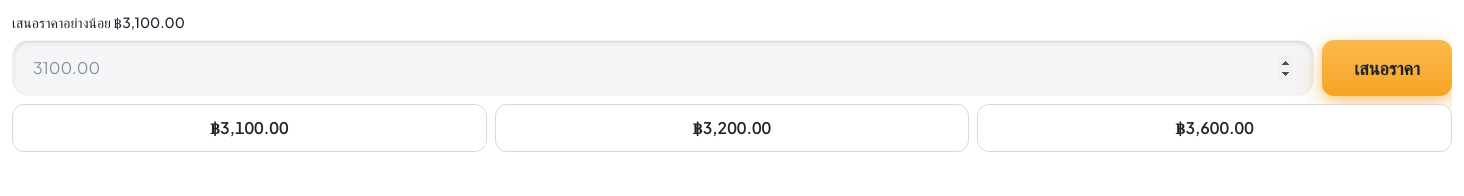
Test: PlaceBidControl › placing a bid › refuses an amount below the minimum in its own words, without troubling the API
Type "3000" into the number field labelled "เสนอราคาอย่างน้อย ฿3,100.00" at x=663, y=68, box [33,56,1293,80]
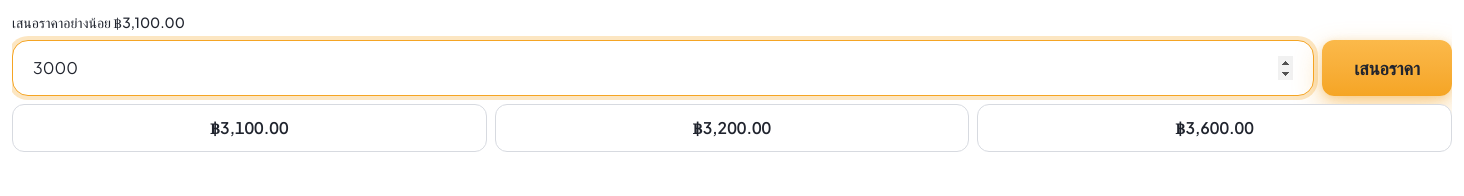
Click the button "เสนอราคา" at x=1387, y=68, box [1322,40,1452,96]
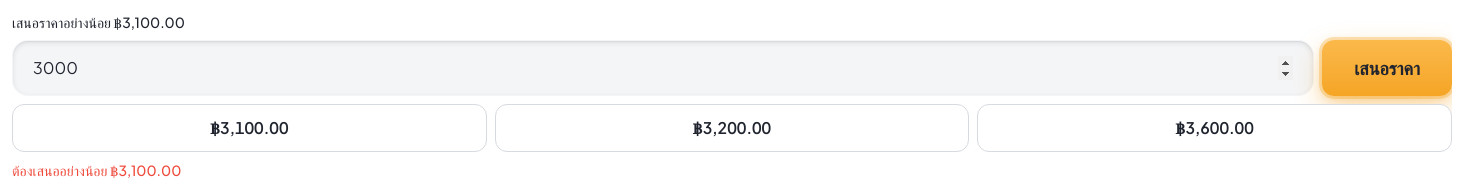
Expected: the message reads "ต้องเสนออย่างน้อย ฿3,100.00", [12,161,181,179]
